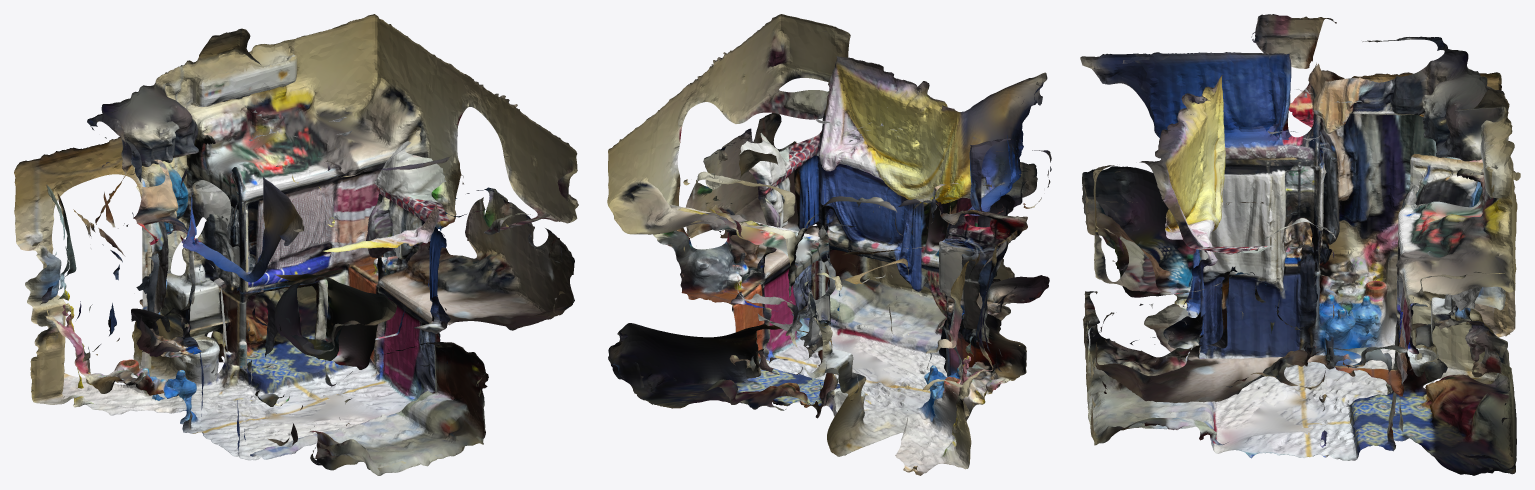
3 renders of one model, left to right at view 1: azimuth 30°, elevation 25°; view 2: azimuth 150°, elevation 25°; view 3: azimuth 270°, elevation 25°, orthographic. The views are drawn at different scales.
Bounding box in the file's own units: 3.96 × 3.07 × 3.69.
Materials: 1 (1 with a texture image).
